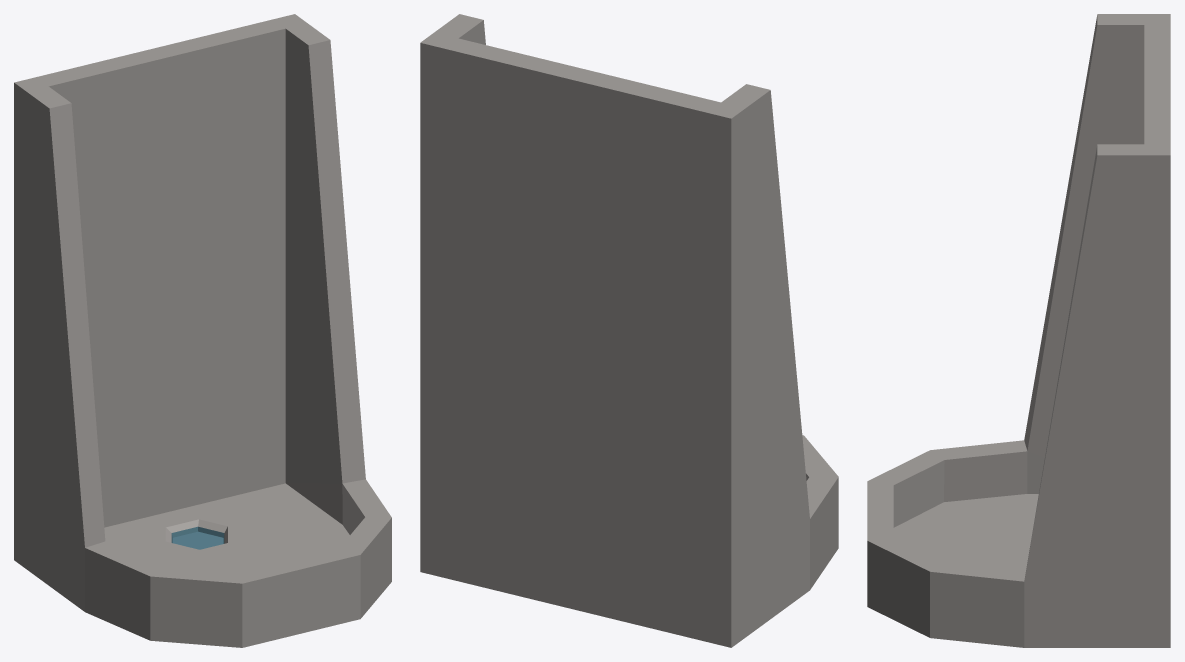
The model's file is SM_Props_Interior_House_Bathroom_Toilet_03.fbx.
3 views of the same model, side by side, from view 1: azimuth 30°, elevation 25°; view 2: azimuth 150°, elevation 25°; view 3: azimuth 270°, elevation 25° (orthographic). The views are drawn at different scales.
Visible parts, largest first — view 1: SM_Props_Interior_House_Bathroom_Toilet_03; view 2: SM_Props_Interior_House_Bathroom_Toilet_03; view 3: SM_Props_Interior_House_Bathroom_Toilet_03.
Boxes of the visible parts, x1,y1,x2,y2 form: SM_Props_Interior_House_Bathroom_Toilet_03: (14,14,391,647); SM_Props_Interior_House_Bathroom_Toilet_03: (420,14,838,647); SM_Props_Interior_House_Bathroom_Toilet_03: (867,14,1170,647).
Bounding box in the file's own units: 32 × 52 × 29.
